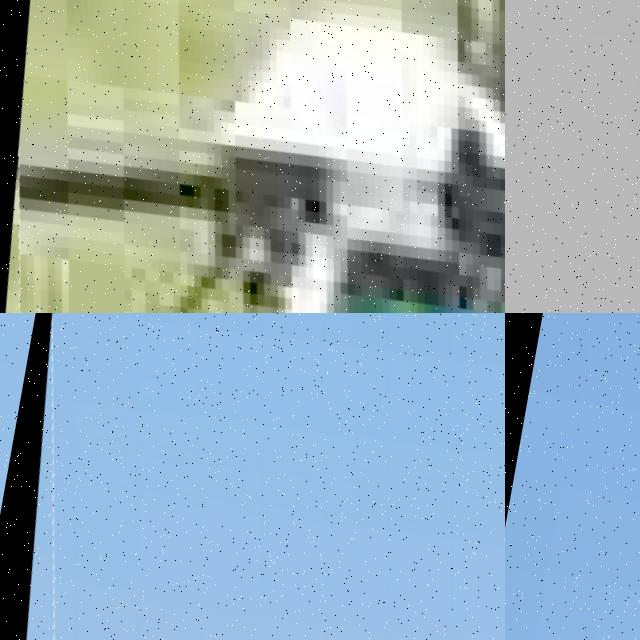drone: (0, 313, 505, 640), (0, 0, 505, 313)
